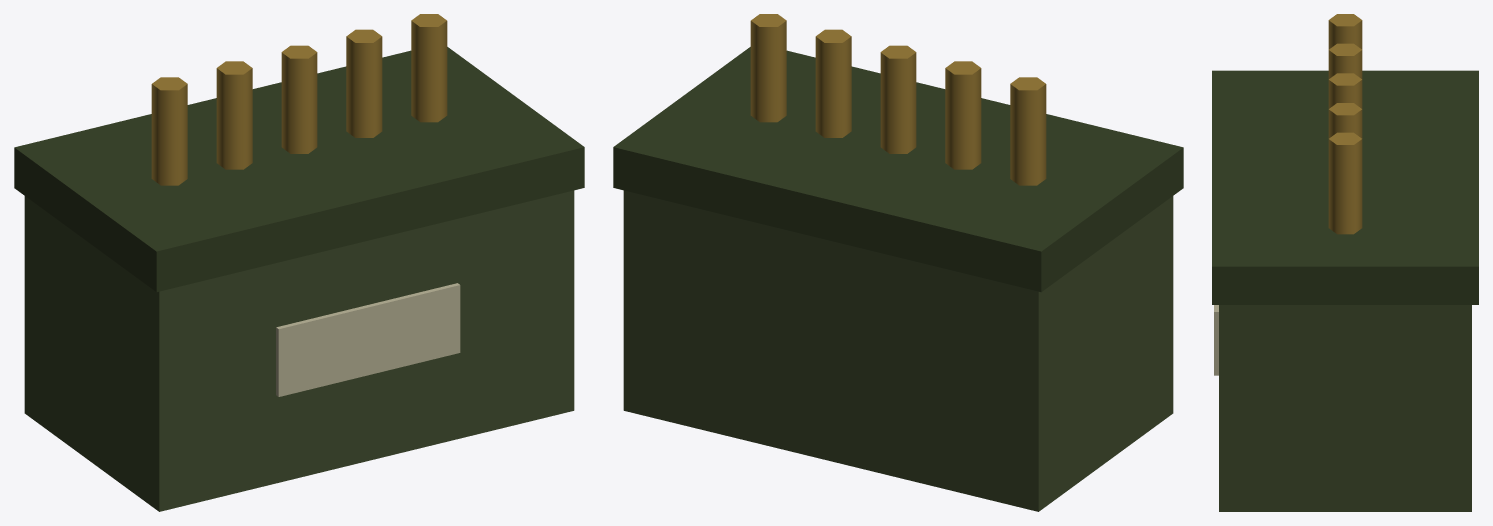
Rendered from ammo_box.glb.
3 renders of one model, left to right at view 1: azimuth 30°, elevation 25°; view 2: azimuth 150°, elevation 25°; view 3: azimuth 270°, elevation 25°, orthographic. The views are drawn at different scales.
Parts seen in each view (by area): view 1: AmmoBoxMesh; view 2: AmmoBoxMesh; view 3: AmmoBoxMesh.
Part boxes in pixels (left/top/right/bottom): AmmoBoxMesh: left=14, top=14, right=584, bottom=511; AmmoBoxMesh: left=613, top=14, right=1183, bottom=511; AmmoBoxMesh: left=1212, top=14, right=1478, bottom=511.
Bounding box in the file's own units: 0.33 × 0.265 × 0.19.
